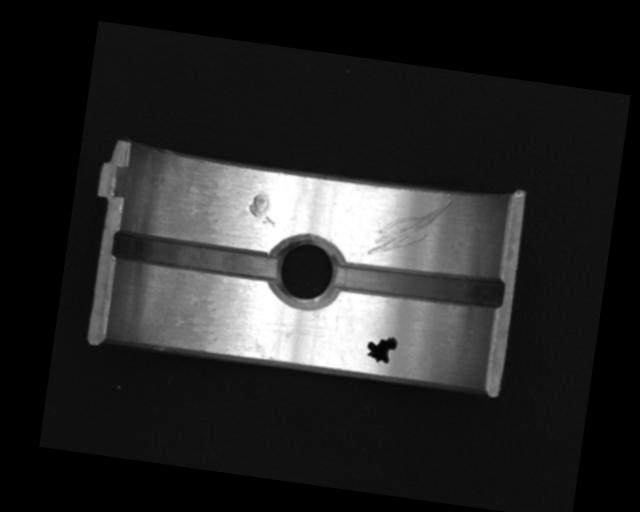blot: (364, 332, 398, 365)
bruise: (245, 193, 279, 228)
gap: (330, 255, 505, 312), (110, 230, 279, 281)
hole: (267, 233, 346, 312)
nick: (367, 188, 453, 265)
